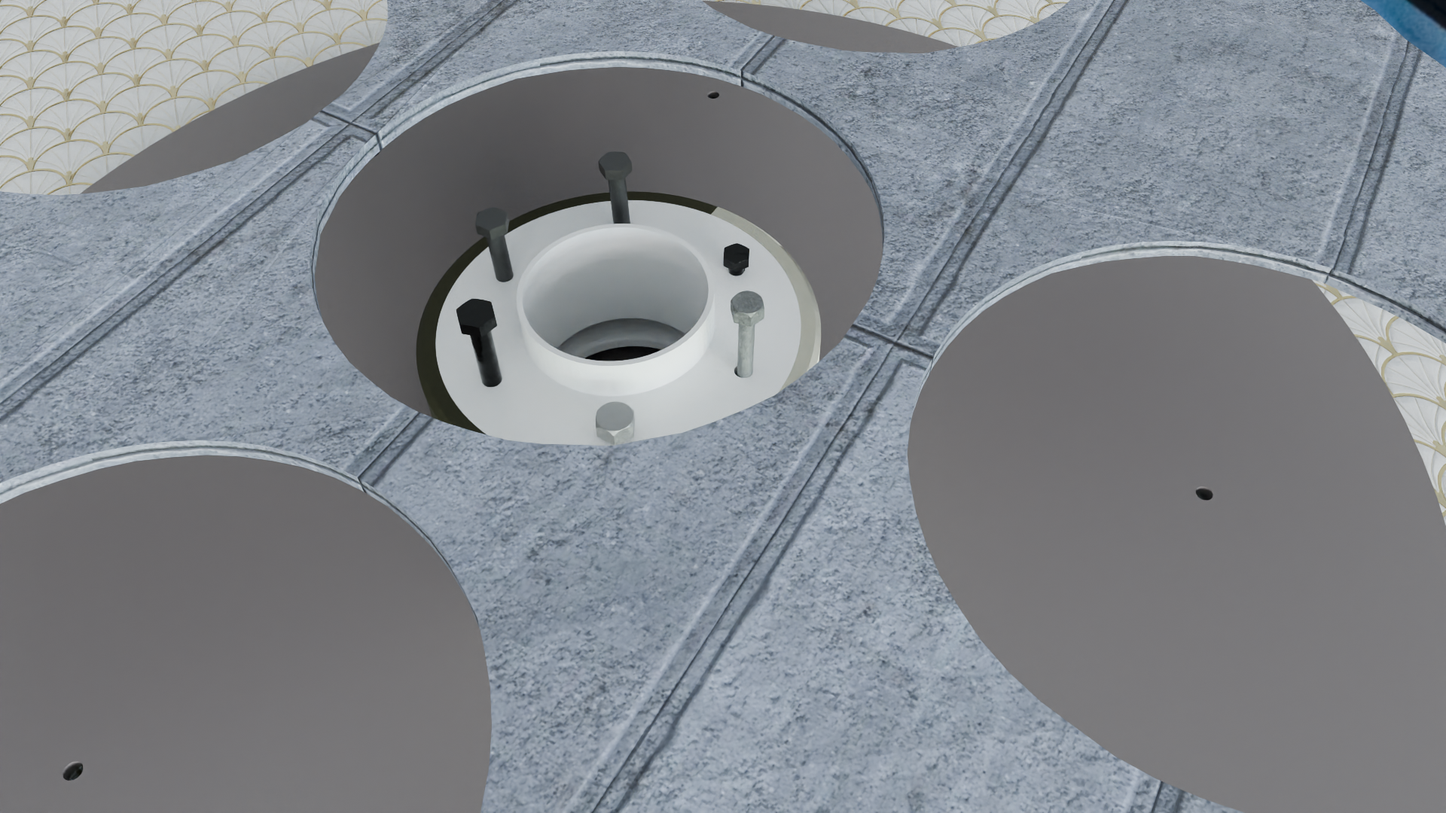bolt: (596, 401, 634, 436), (456, 298, 495, 328), (731, 291, 764, 318), (475, 207, 508, 231), (598, 151, 631, 171), (723, 243, 749, 264)
